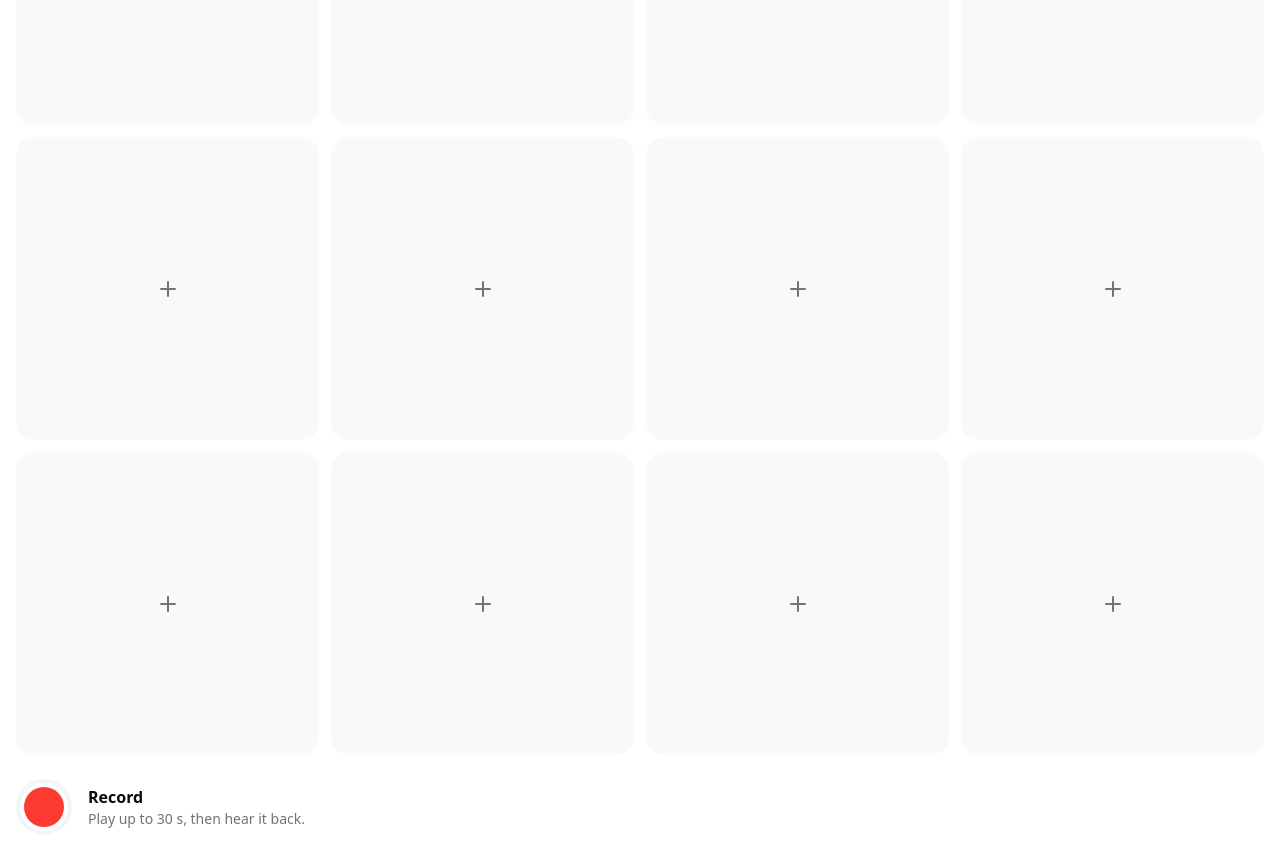
Scenario: a take on the Sound Pad › says it couldn’t be made, and reports why
(page scrolled)
Click the button named "Record" at x=44, y=807, box [16,779,72,835]
(page scrolled)
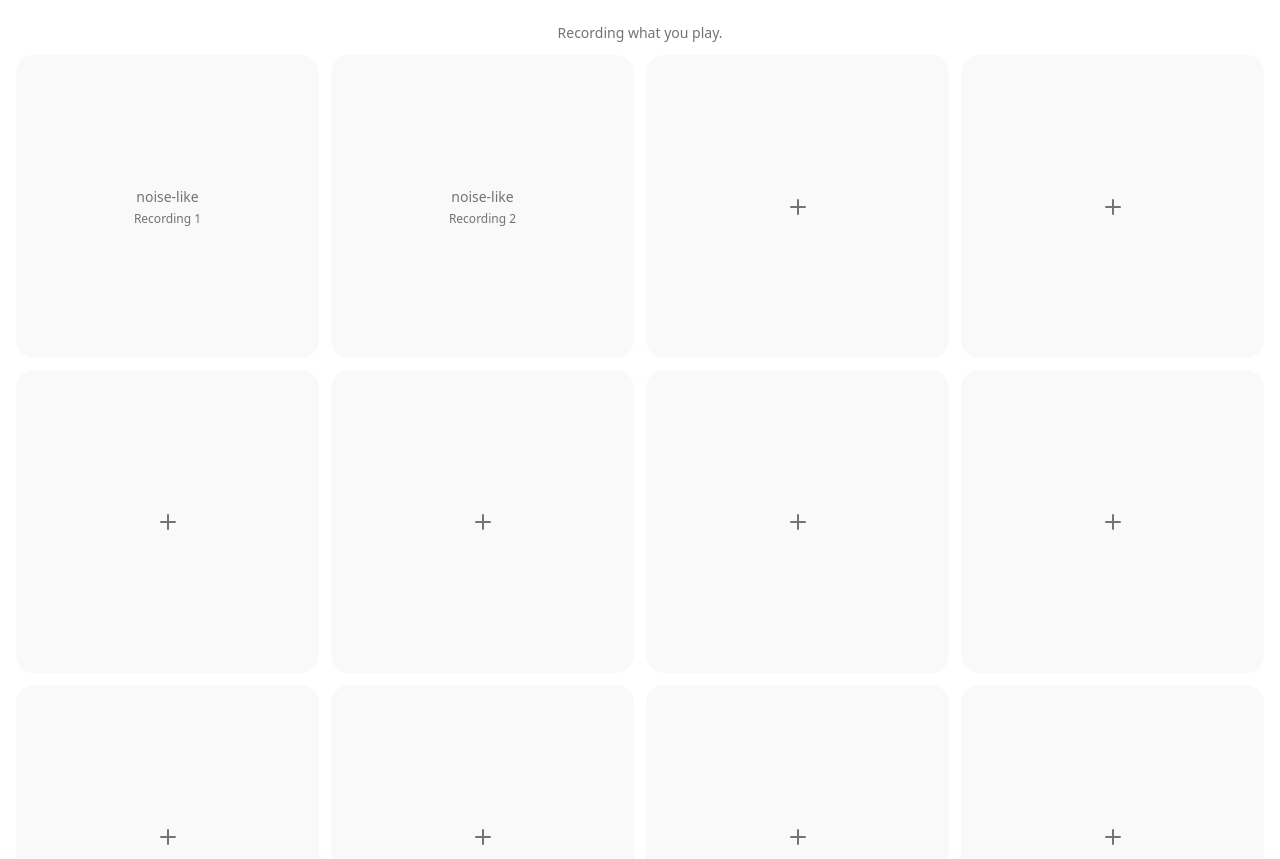
Press the mouse on the button "noise-like Recording 1" at x=168, y=206, box [16,55,319,358]
(page scrolled)
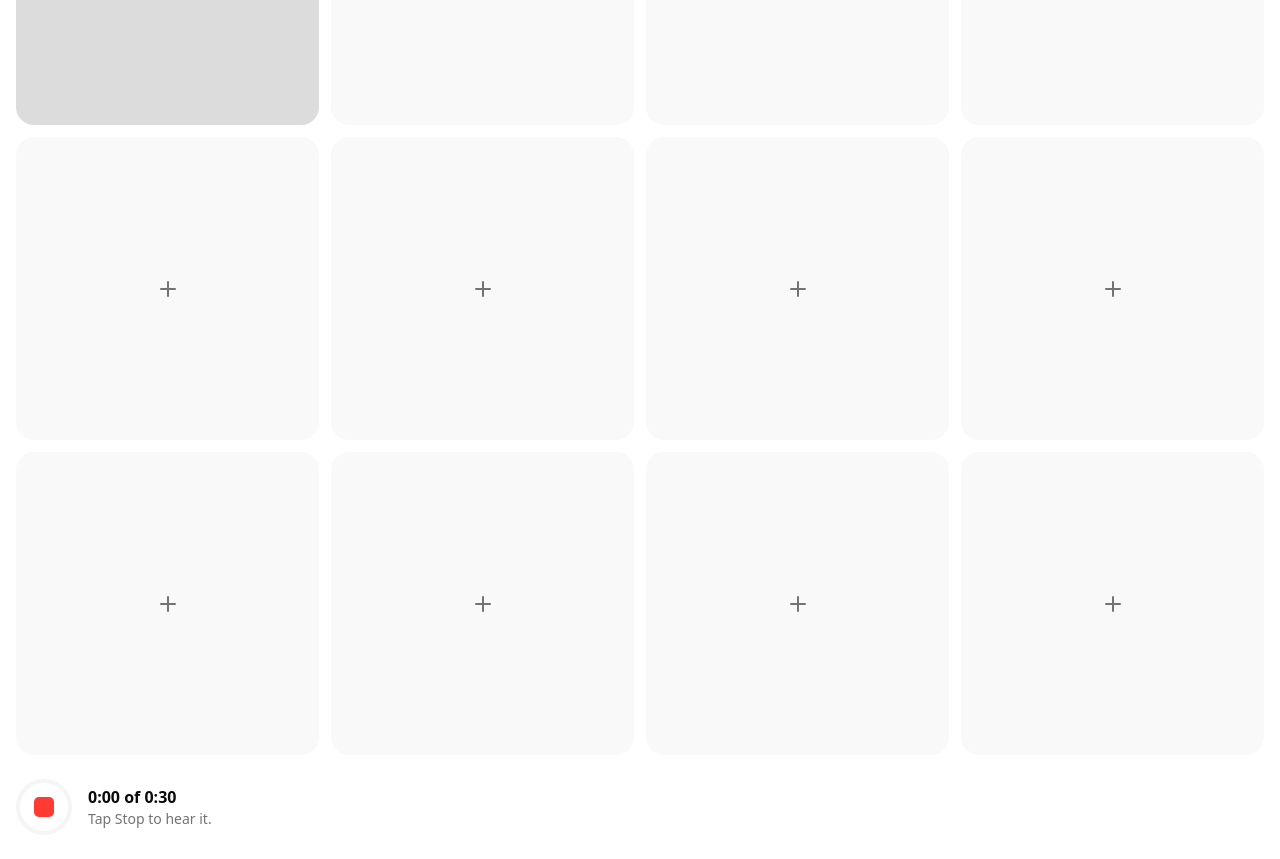
Click the button named "Stop recording" at x=44, y=807, box [16,779,72,835]
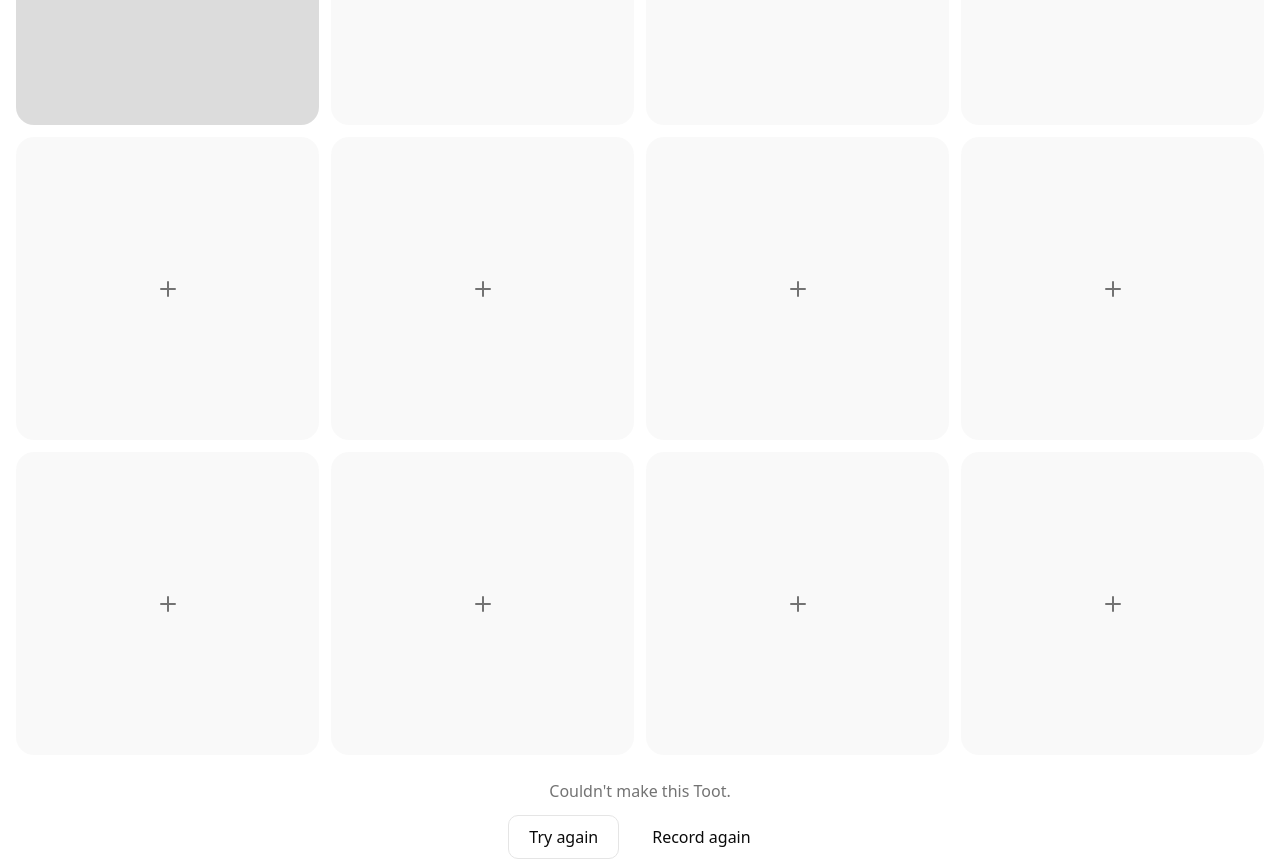
Expected: the text "Couldn't make this Toot." is shown, [549,779,731,803]
